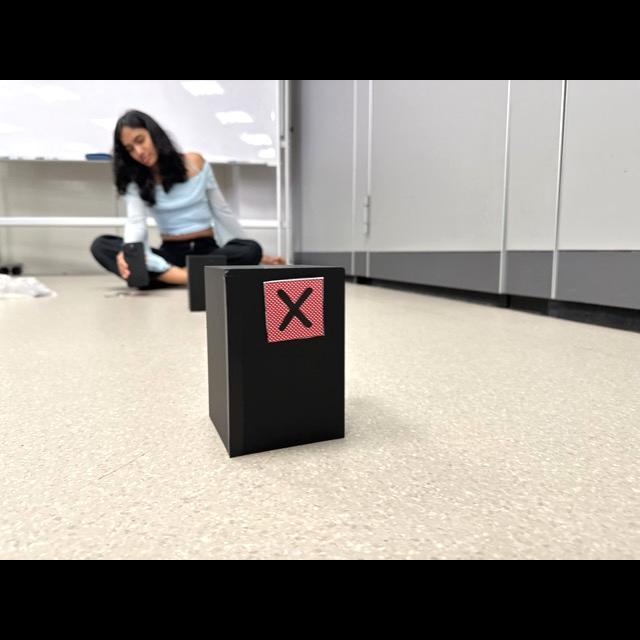X: (277, 287, 312, 332)
